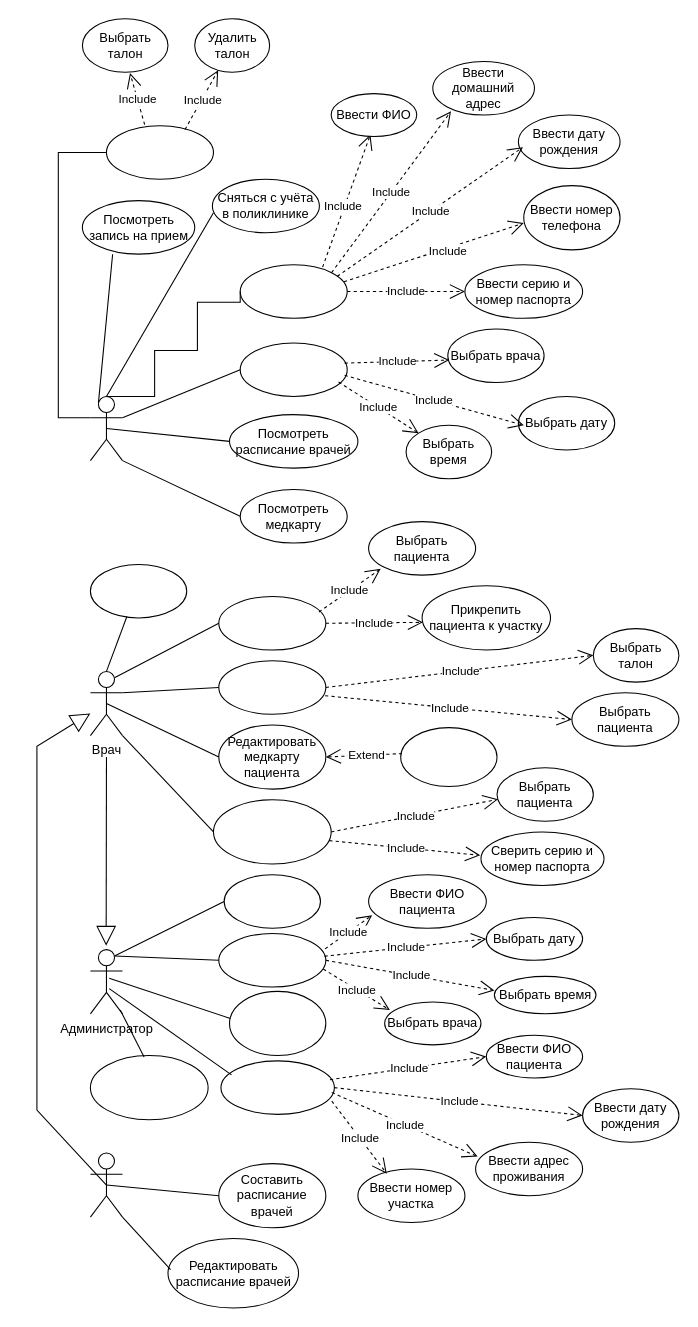
Image size: 698x1327. Some labels were removed from this diagram. The box of each missing label's shape, as (x1, y1, x2, y2) in pixels:
Выписать электронный рецепт: (212, 799, 331, 864)
Глав. Врач: (89, 1152, 123, 1217)
Записать на приём пациента: (218, 933, 326, 987)
Записаться на приём к врачу: (239, 342, 347, 396)
Отменить запись на приём: (105, 125, 213, 179)
Отправить медкарту пациента в архив: (89, 1054, 208, 1120)
Пациент: (89, 395, 123, 461)
Посмотреть медкарту пациента: (228, 990, 326, 1056)
Посмотреть расписание: (223, 874, 320, 928)
Поставить на учёт пациента: (218, 595, 326, 650)
Поставить отметку о приёме: (218, 660, 326, 714)
Прикрепить файл: (400, 727, 497, 786)
Снять с учёта пациента: (89, 563, 187, 618)
Создать медкарту пациента: (220, 1060, 334, 1114)
Стать на учёт в поликлинику: (239, 264, 347, 318)
